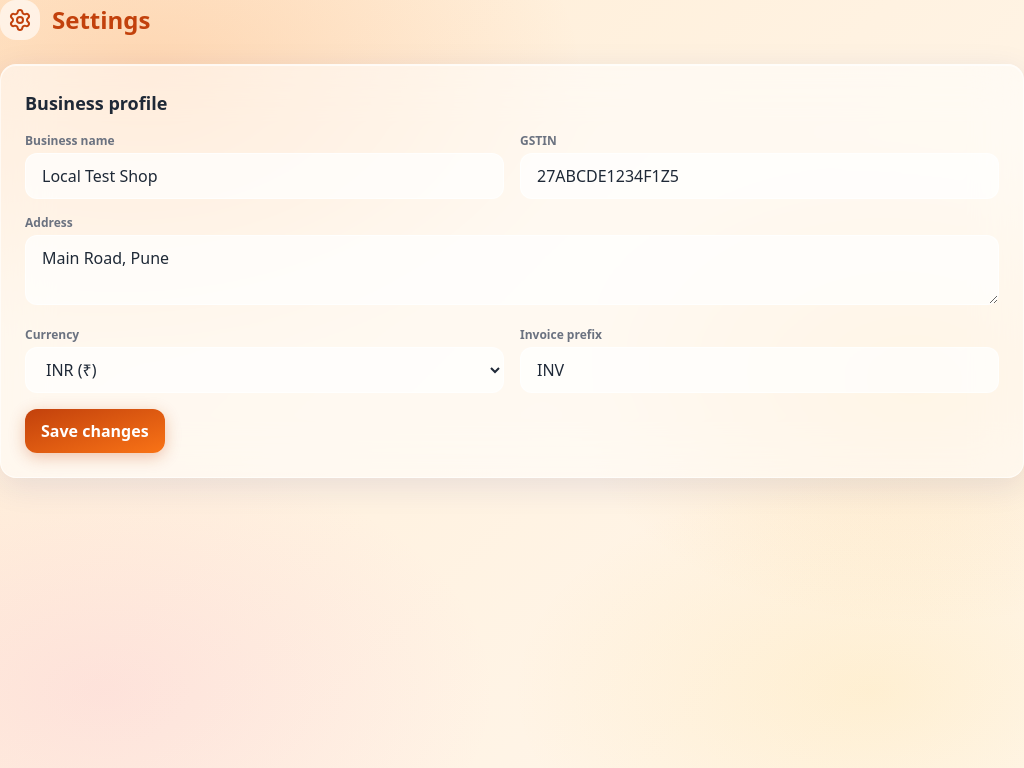
Test: Settings page › shows the server error message when the update fails
Check: the field labelled "Business name" is shown, box [25,153,504,199]
What coordinates should you click on to do the following:
click the button "Save changes"
I would click on:
 (95, 431)
Its box is [25,409,165,453].
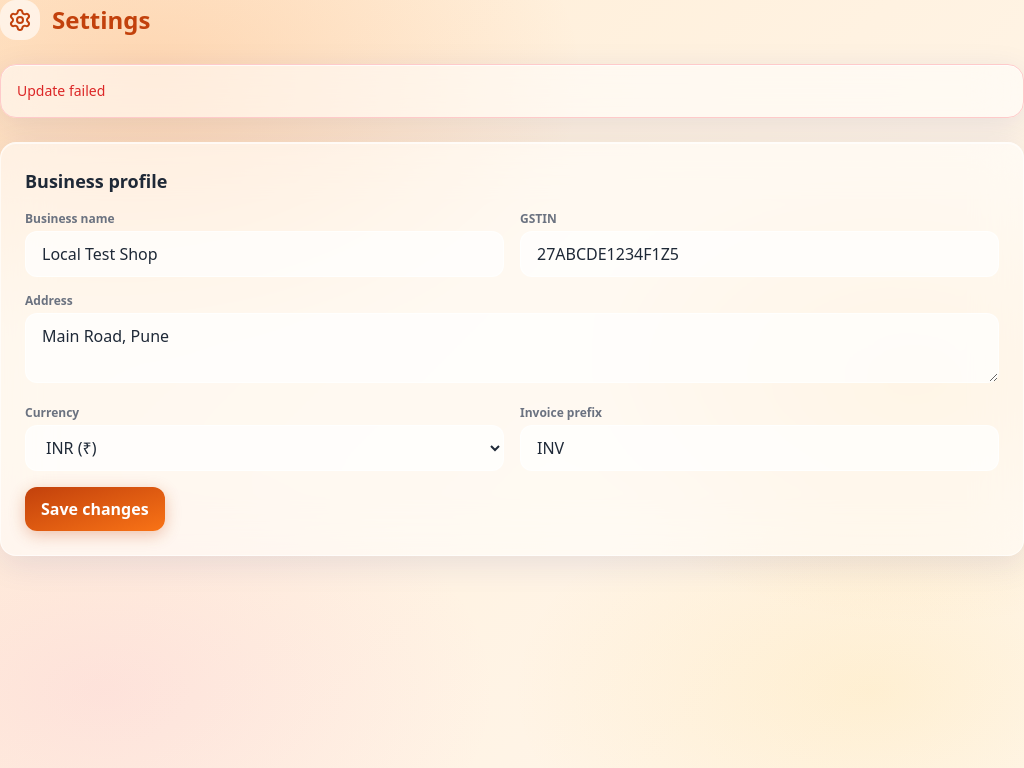
Check: the text "Update failed" is shown, box [0,64,1023,118]
